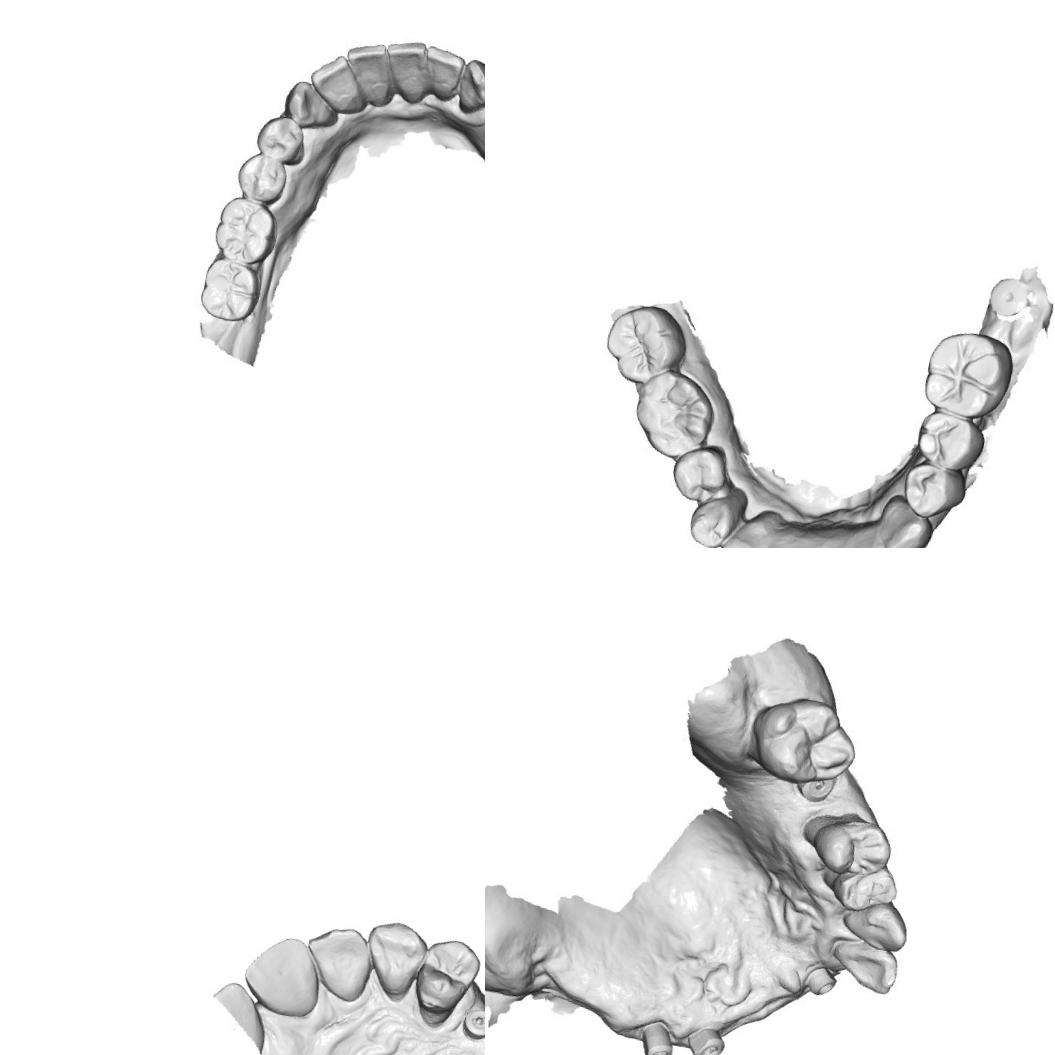canine: (355, 916, 432, 1008), (835, 892, 914, 956), (277, 75, 345, 134), (875, 493, 937, 548), (714, 506, 779, 548), (450, 53, 485, 119)
implant: (980, 268, 1038, 326), (794, 768, 840, 810), (633, 1017, 679, 1055), (681, 1021, 728, 1055)
implant_minus: (458, 1004, 485, 1043)
incisor: (236, 929, 328, 1022), (297, 920, 378, 1006), (824, 934, 904, 998), (334, 32, 397, 110), (303, 51, 367, 115), (379, 33, 433, 102), (418, 42, 468, 104), (756, 524, 799, 548), (786, 528, 832, 548), (850, 529, 896, 548), (820, 531, 863, 548)
molar: (741, 686, 866, 794), (916, 324, 1019, 424), (626, 363, 723, 465), (597, 295, 695, 393), (209, 193, 282, 268), (192, 253, 264, 326)
premolar: (408, 934, 484, 1034), (808, 808, 898, 885), (911, 407, 989, 476), (898, 458, 967, 524), (666, 440, 730, 508), (247, 111, 316, 171), (832, 859, 902, 917), (232, 147, 293, 207), (678, 489, 740, 548)
